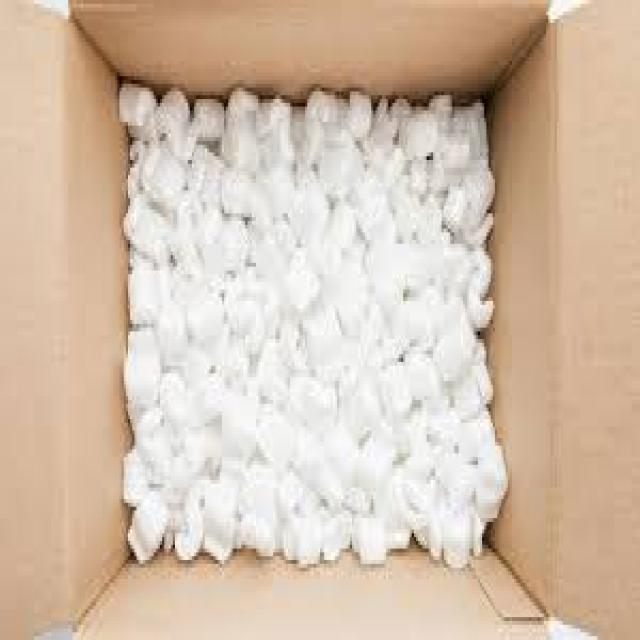cardboard: (510, 0, 638, 636), (0, 0, 126, 632), (70, 537, 544, 636), (68, 0, 557, 80)
